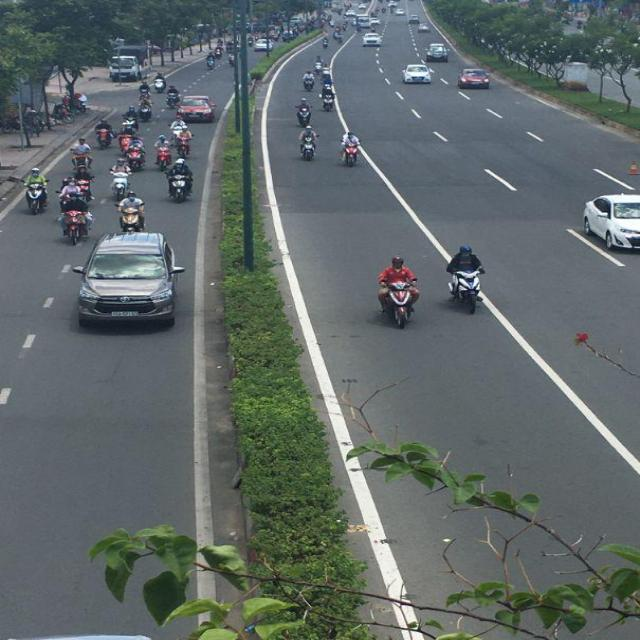car: (77, 230, 181, 329), (582, 194, 639, 251), (178, 96, 216, 122), (459, 69, 490, 89), (406, 65, 433, 86), (428, 44, 449, 63), (362, 36, 382, 50)
motorcycle: (376, 282, 421, 329), (446, 269, 482, 313), (168, 162, 196, 204), (117, 195, 146, 235), (60, 208, 91, 245), (26, 187, 48, 214), (341, 133, 358, 163), (300, 132, 318, 159), (296, 105, 311, 128), (303, 72, 316, 91)
truck: (109, 43, 151, 82)
